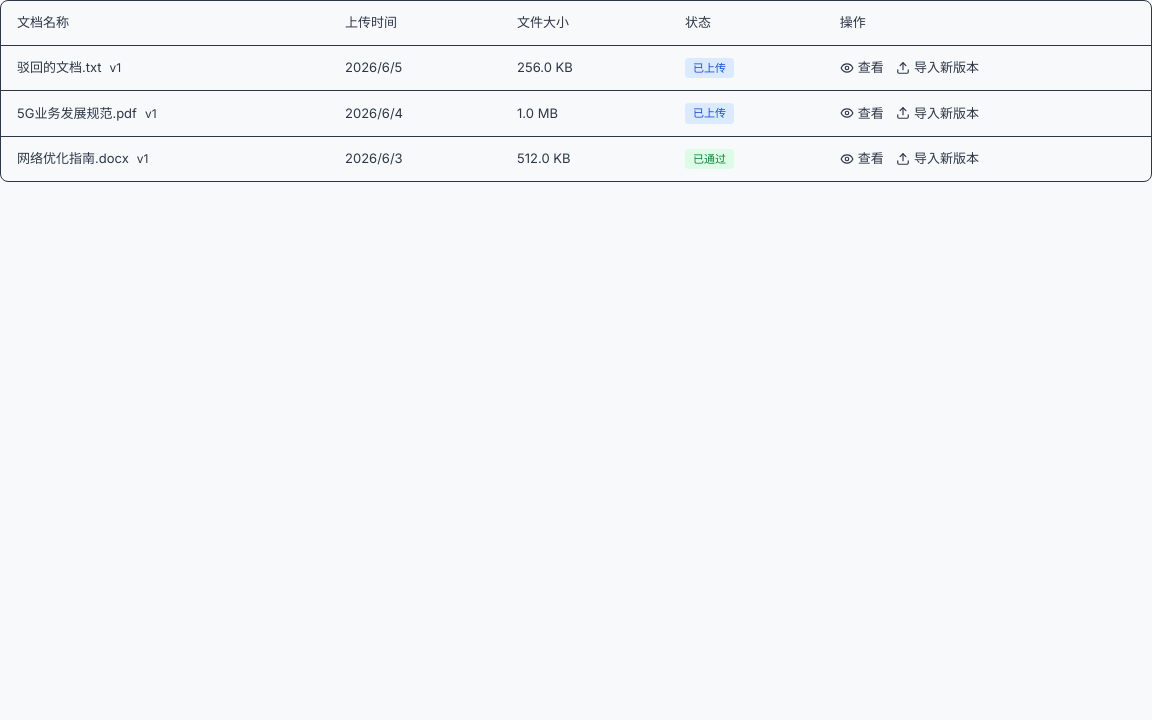
MyDocumentsList › drawer shows basic document info
This screenshot has width=1152, height=720.
Click the button "查看" in the row of "5G业务发展规范.pdf": x=862, y=113 top-left (840, 104), bottom-right (884, 123)
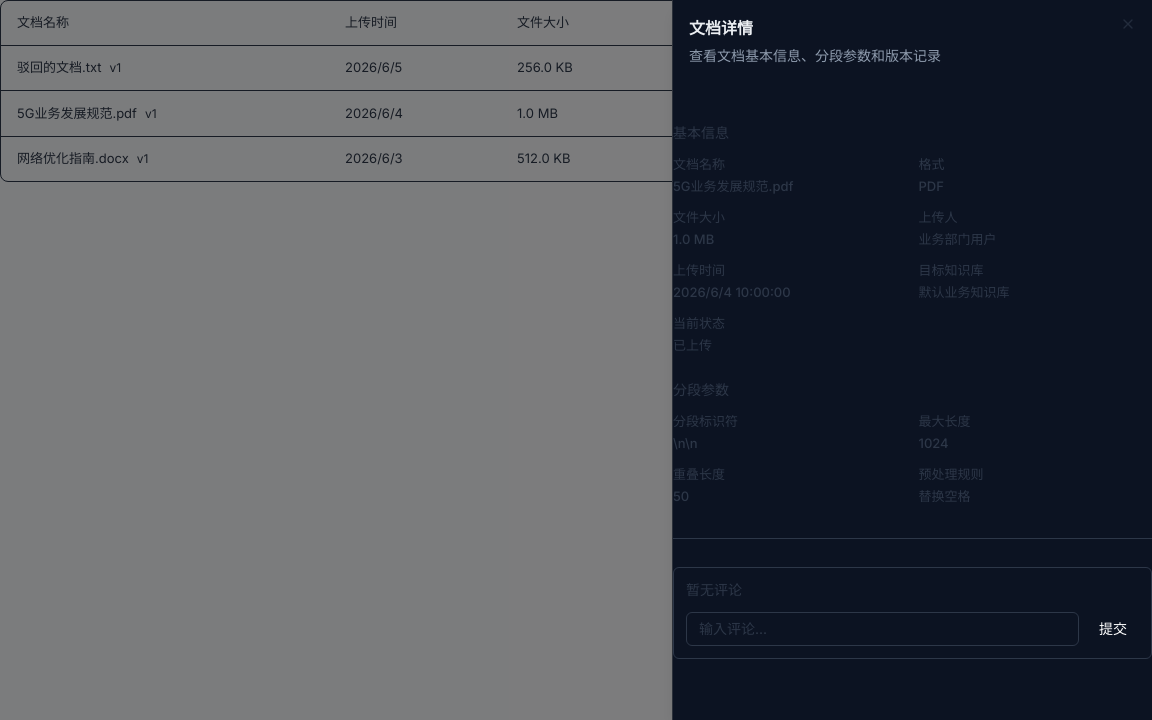
Result: the heading "文档详情" is shown at top-left (689, 18), bottom-right (753, 38)
Result: the text "5G业务发展规范.pdf" is shown at top-left (673, 178), bottom-right (794, 194)
Result: the text "默认业务知识库" is shown at top-left (918, 284), bottom-right (1010, 300)
